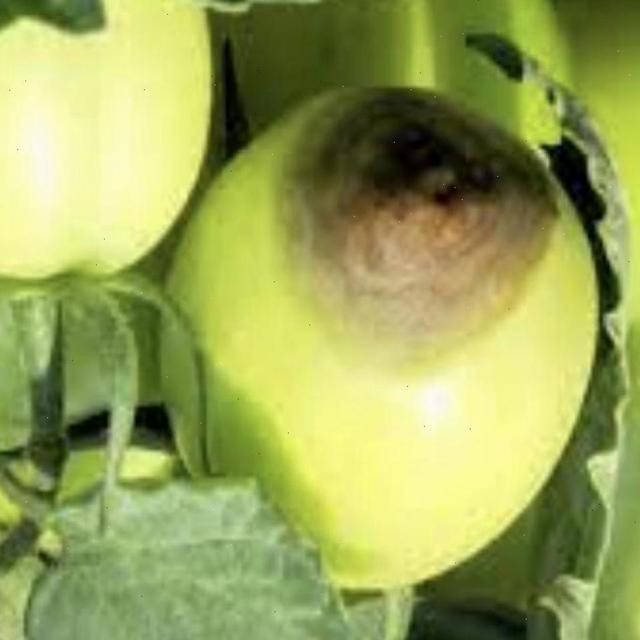Blossom End Rot Fruit: (190, 60, 370, 246)
